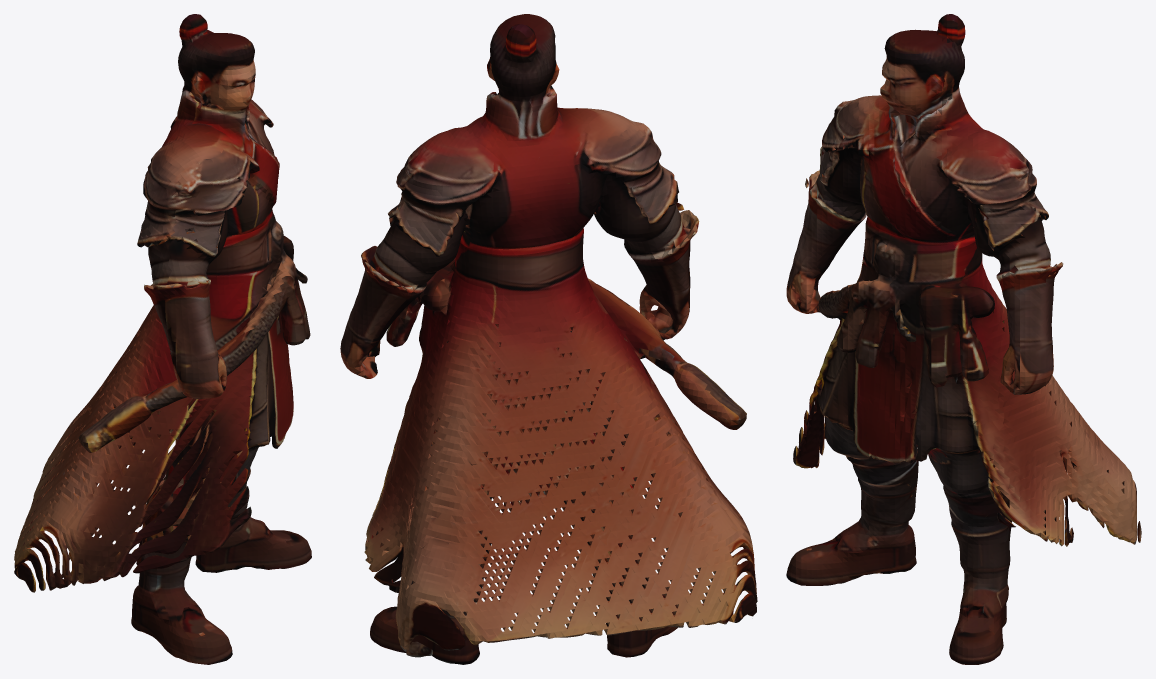
File: body.glb
The picture shows the model from 3 angles, left to right: view 1: azimuth 30°, elevation 25°; view 2: azimuth 150°, elevation 25°; view 3: azimuth 270°, elevation 25°; orthographic projection. The views are drawn at different scales.
Visible parts, largest first — view 1: geometry_0; view 2: geometry_0; view 3: geometry_0.
Part boxes in pixels (x1,y1,x2,y2): geometry_0: (14,14,311,664); geometry_0: (340,14,757,664); geometry_0: (786,14,1141,664).
Size of the model in its own units: 1.13 by 1.96 by 1.07.
1 material, 1 textured.
